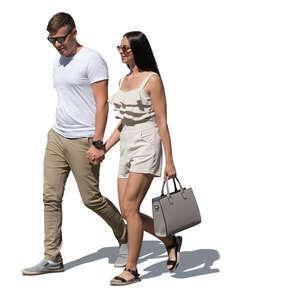Shorts: (116, 120, 165, 179)
short sleeve shirt: (49, 45, 110, 143)
trousers: (42, 125, 128, 262)
vest: (111, 70, 159, 125)
